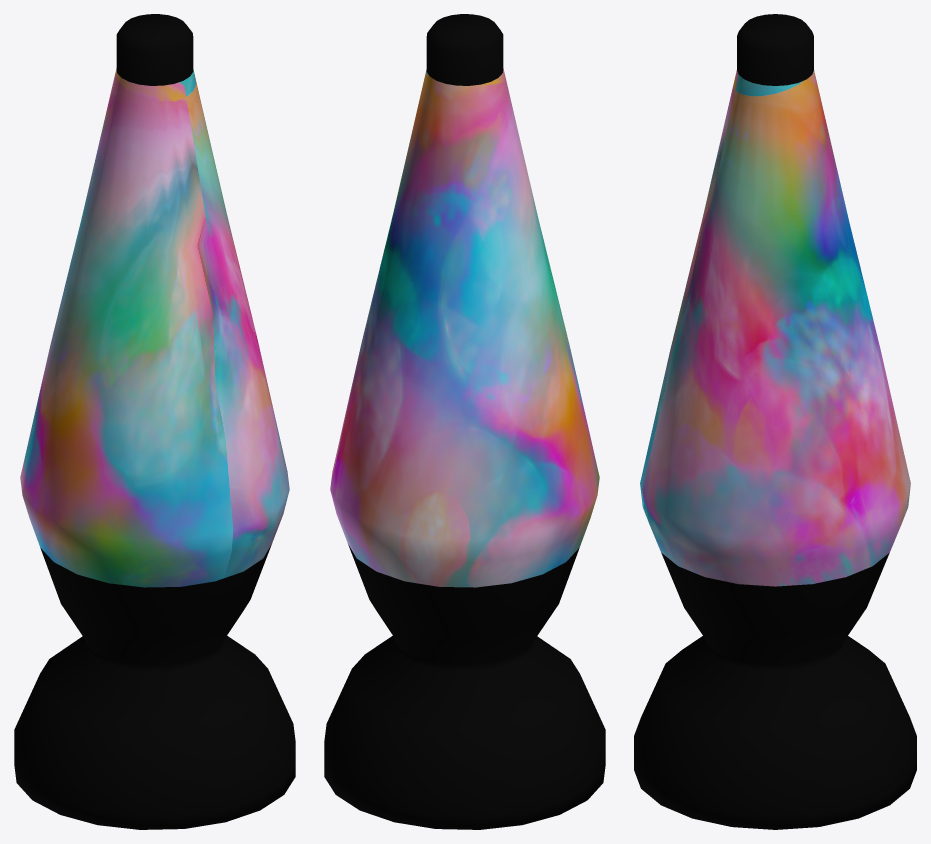
Rendered from lava_lamp.obj.
3 renders of one model, left to right at view 1: azimuth 30°, elevation 25°; view 2: azimuth 150°, elevation 25°; view 3: azimuth 270°, elevation 25°, orthographic.
Parts seen in each view (by area): view 1: Cylinder_Cylinder.001; view 2: Cylinder_Cylinder.001; view 3: Cylinder_Cylinder.001.
Part boxes in pixels (bbox=[...]): Cylinder_Cylinder.001: bbox=[14, 14, 295, 829]; Cylinder_Cylinder.001: bbox=[324, 14, 605, 829]; Cylinder_Cylinder.001: bbox=[634, 14, 916, 829].
Size of the model in its own units: 2 by 5.79 by 2.
Materials: 2 (1 with a texture image).
